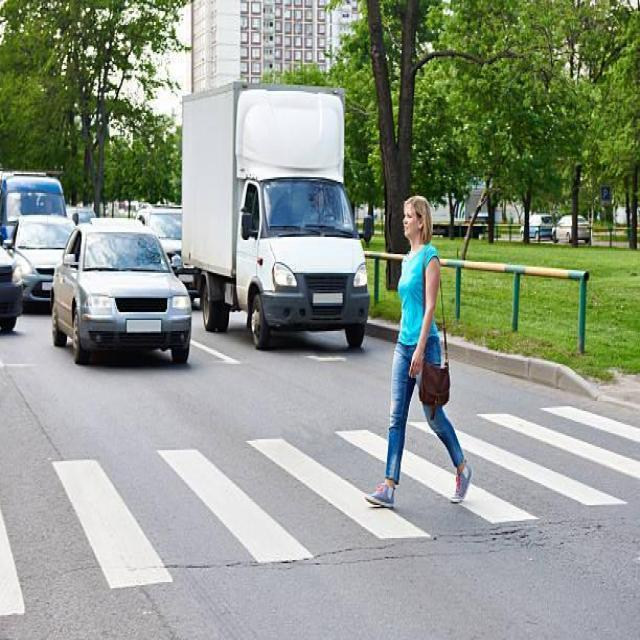without scooter: (365, 182, 475, 513)
